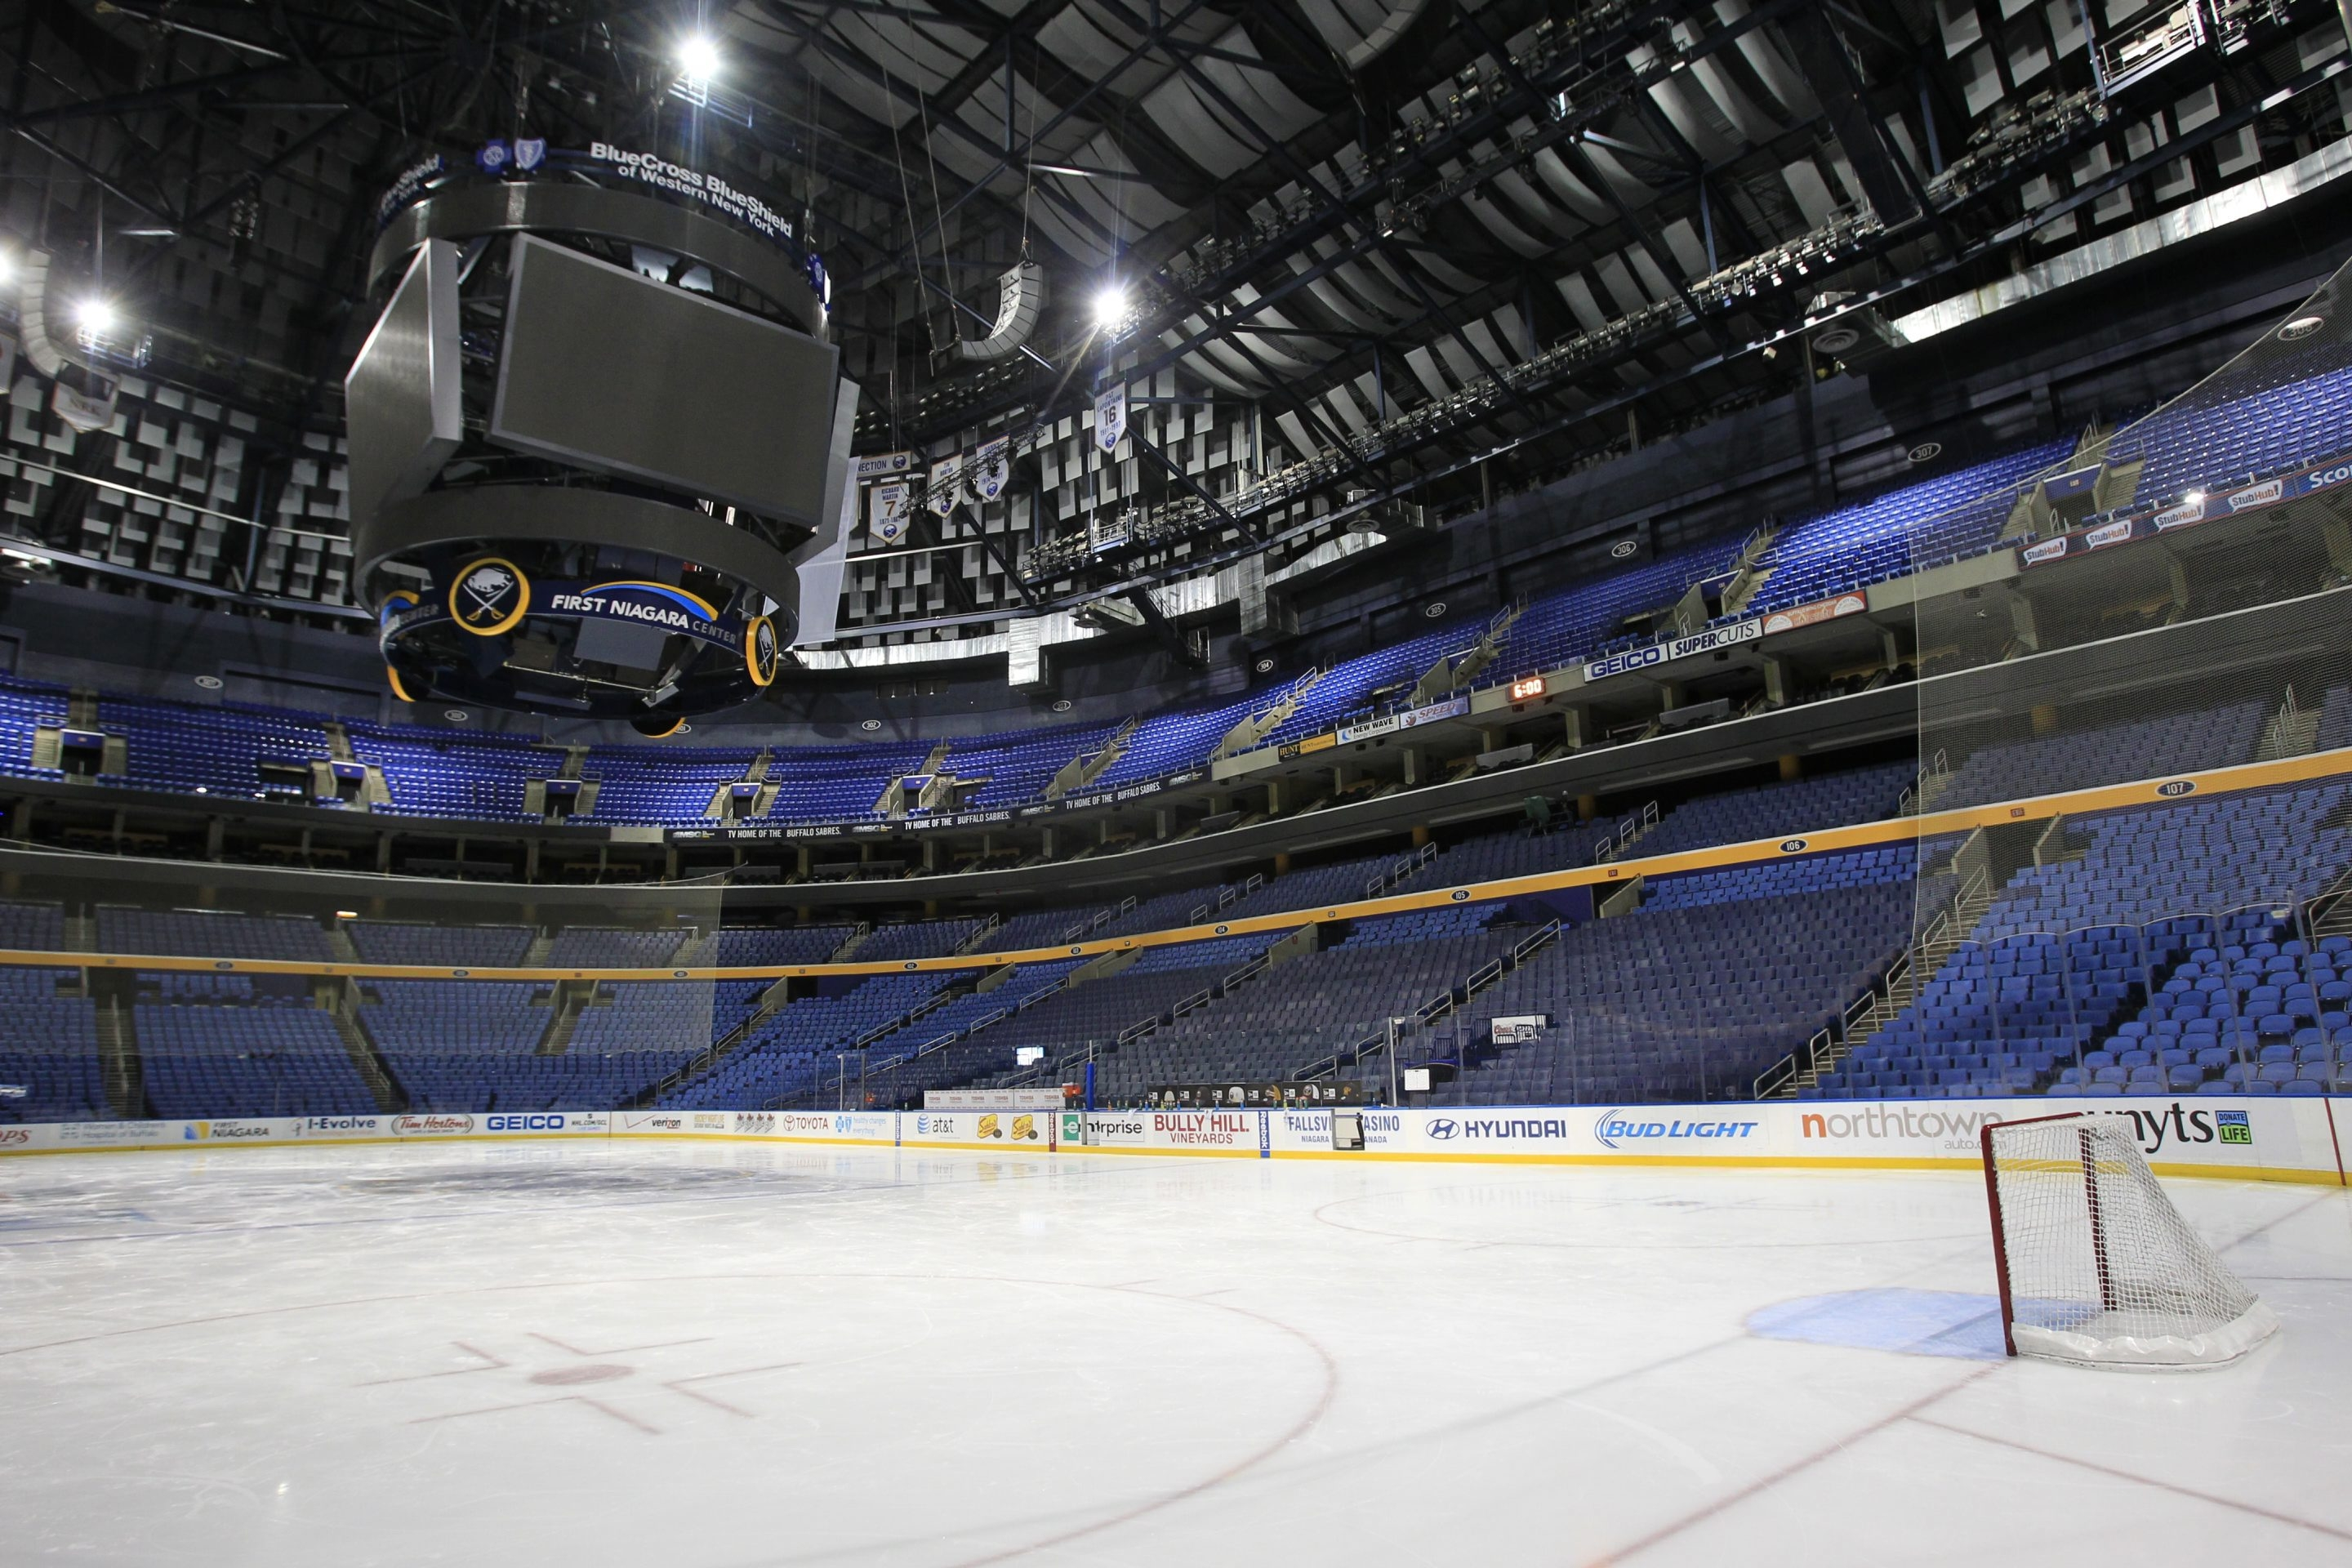Geico: (485, 1109, 569, 1139)
